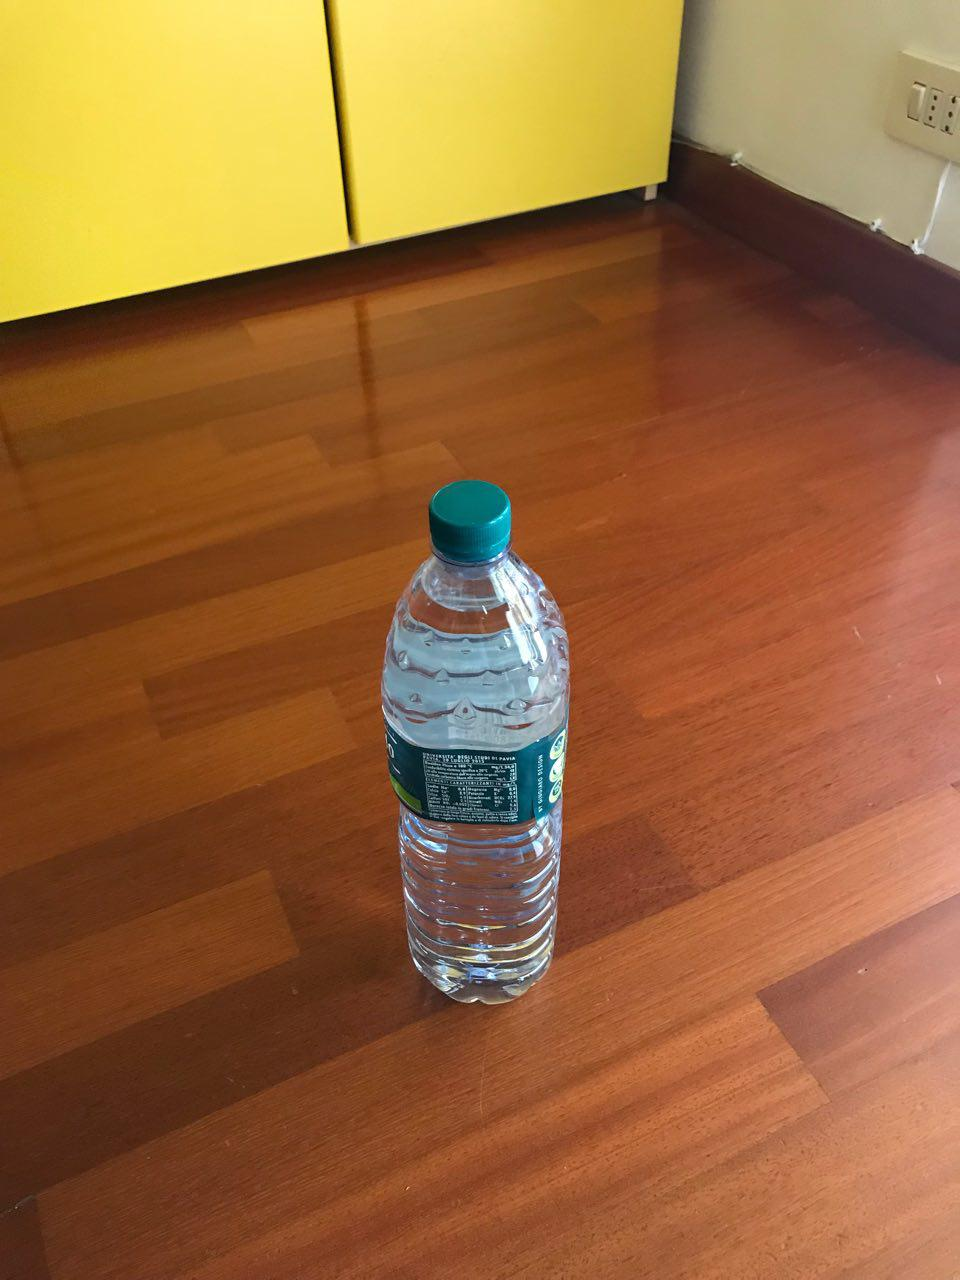san_bernardo: (378, 477, 571, 1007)
